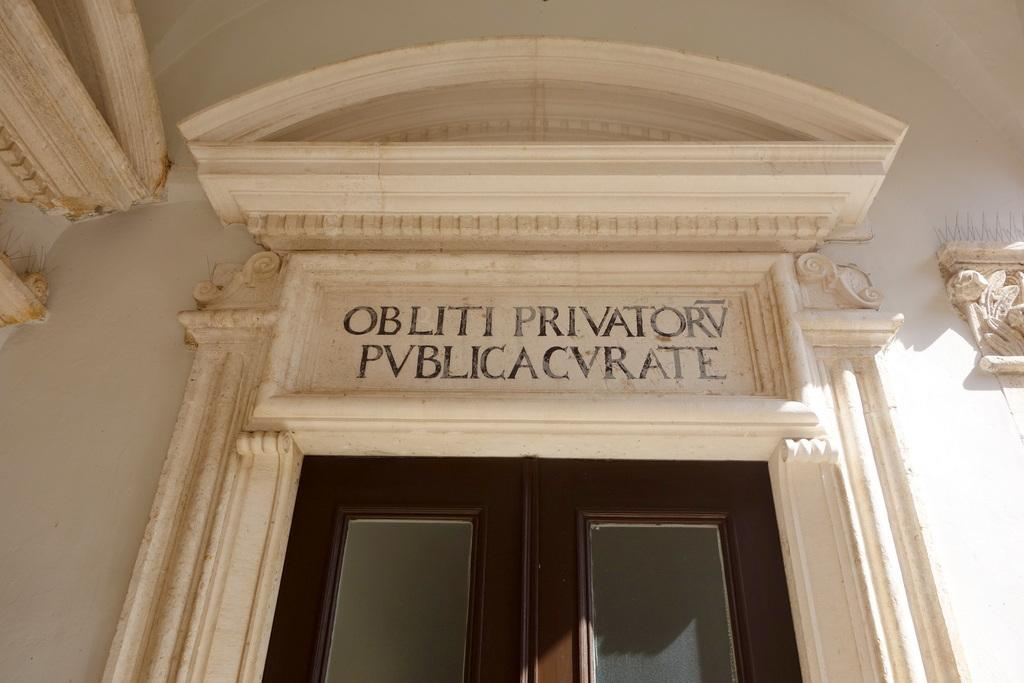door: (534, 471, 768, 683), (313, 459, 513, 683)
